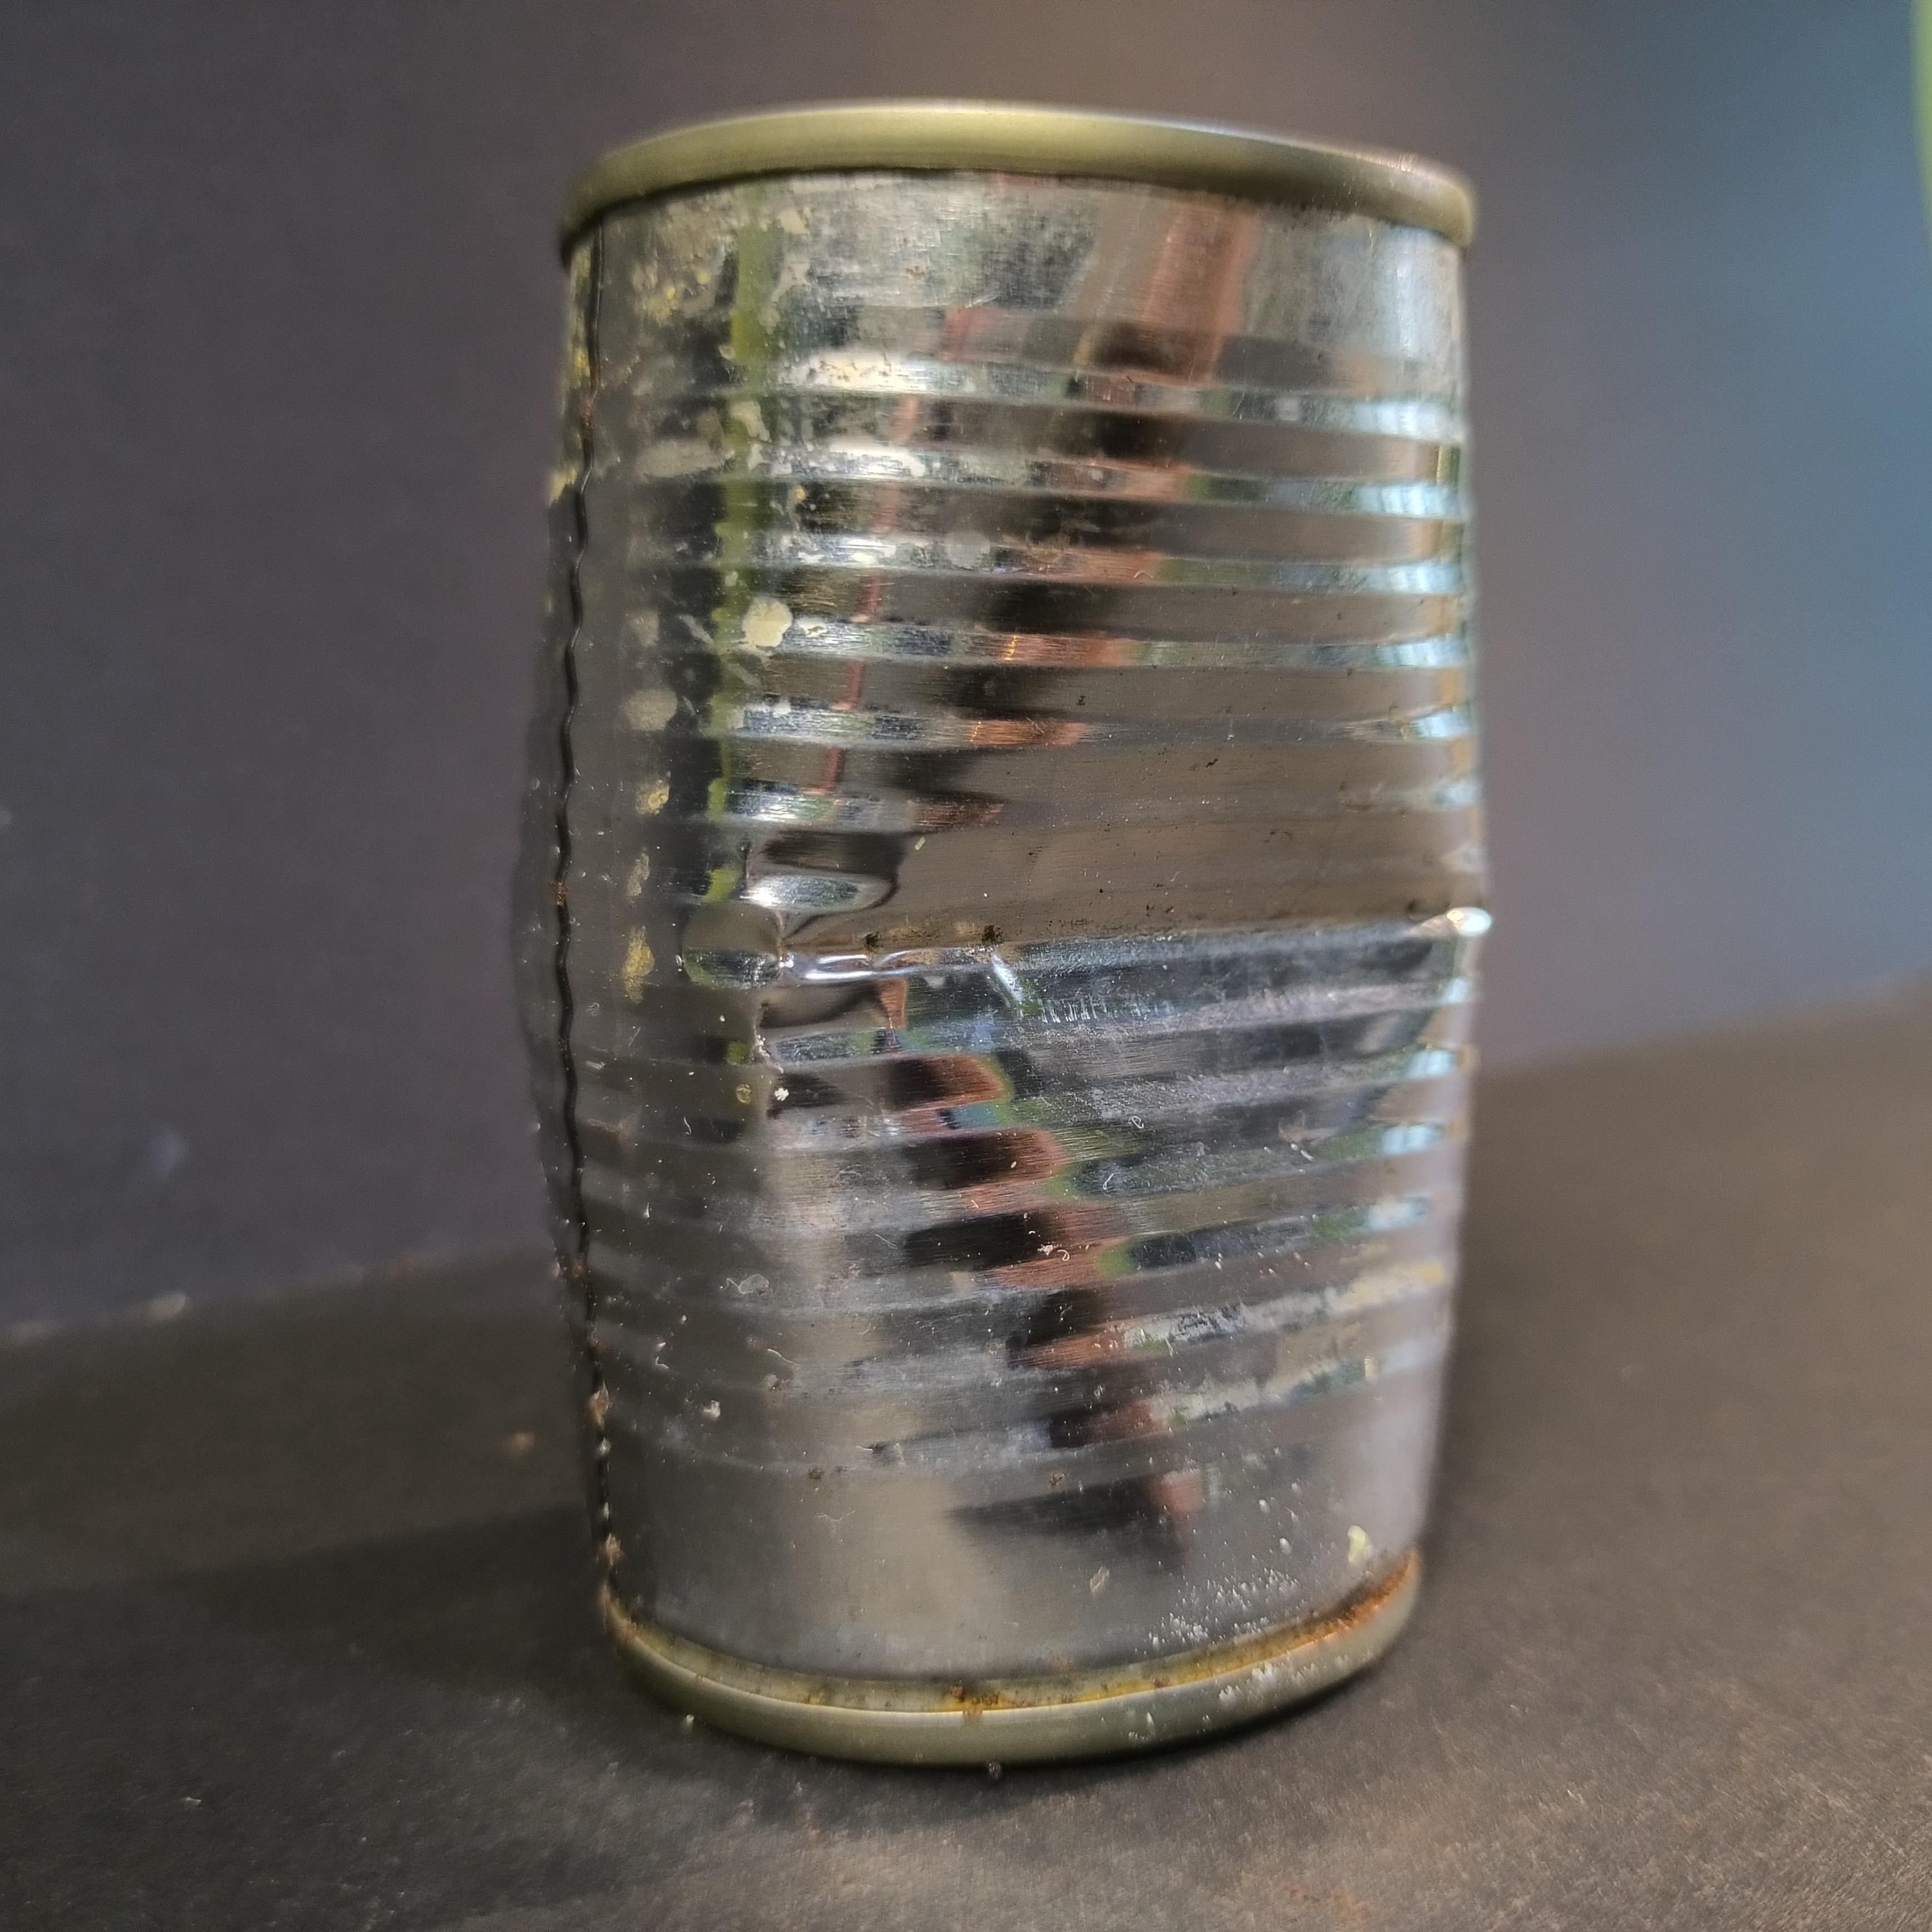Dented: (504, 48, 1516, 1787)
